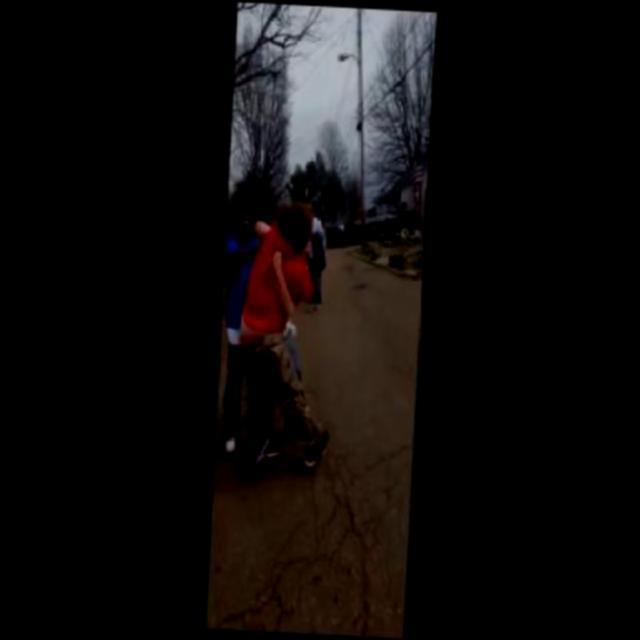fight: (219, 198, 319, 370)
